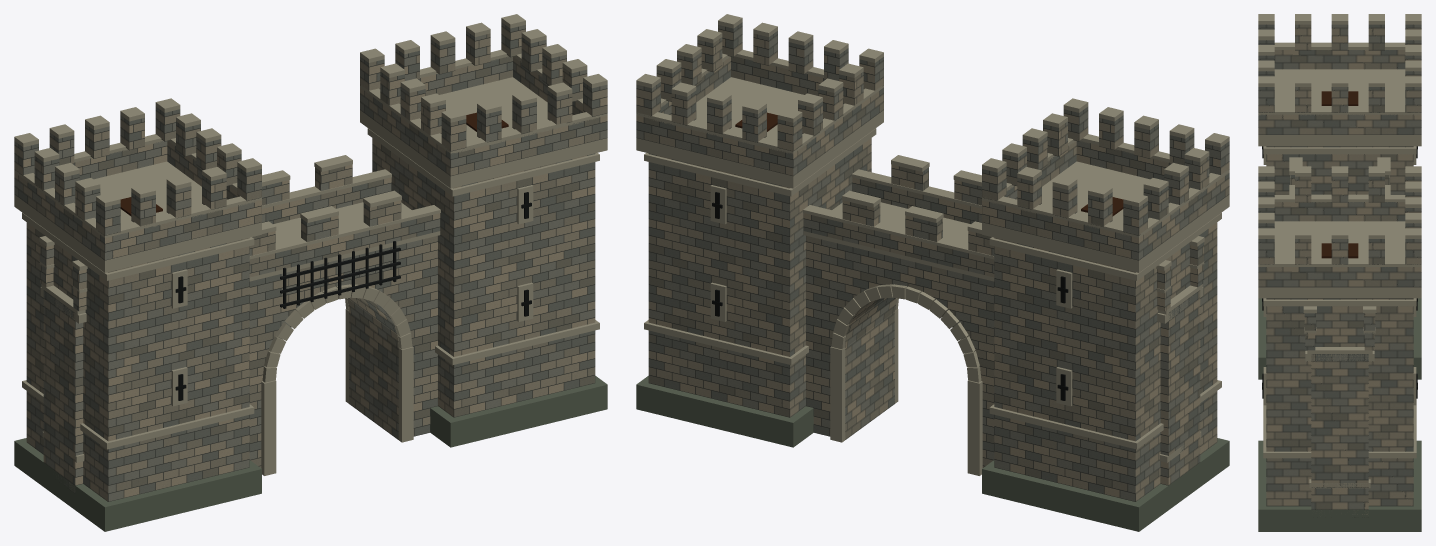
File: castle_gatehouse.obj
3 renders of one model, left to right at view 1: azimuth 30°, elevation 25°; view 2: azimuth 150°, elevation 25°; view 3: azimuth 270°, elevation 25°, orthographic. The views are drawn at different scales.
Visible parts, largest first — view 1: castle_gatehouse; view 2: castle_gatehouse; view 3: castle_gatehouse.
Boxes of the visible parts, x1=… form: castle_gatehouse: x1=14, y1=14, x2=607, y2=531; castle_gatehouse: x1=636, y1=14, x2=1229, y2=531; castle_gatehouse: x1=1258, y1=14, x2=1421, y2=531.
Size of the model in its own units: 1024 by 640 by 320.
6 materials, 1 textured.
